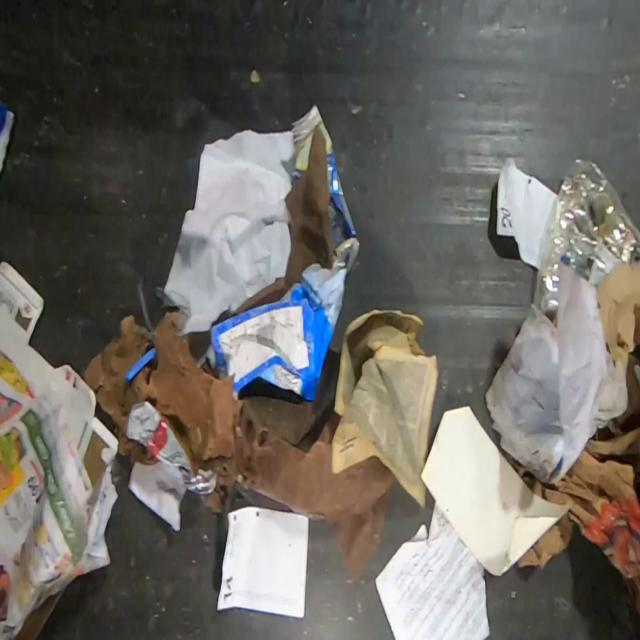cardboard: (210, 256, 344, 404), (592, 263, 631, 412)
metal: (293, 102, 360, 279)
rigid_plastic: (534, 156, 640, 327)
